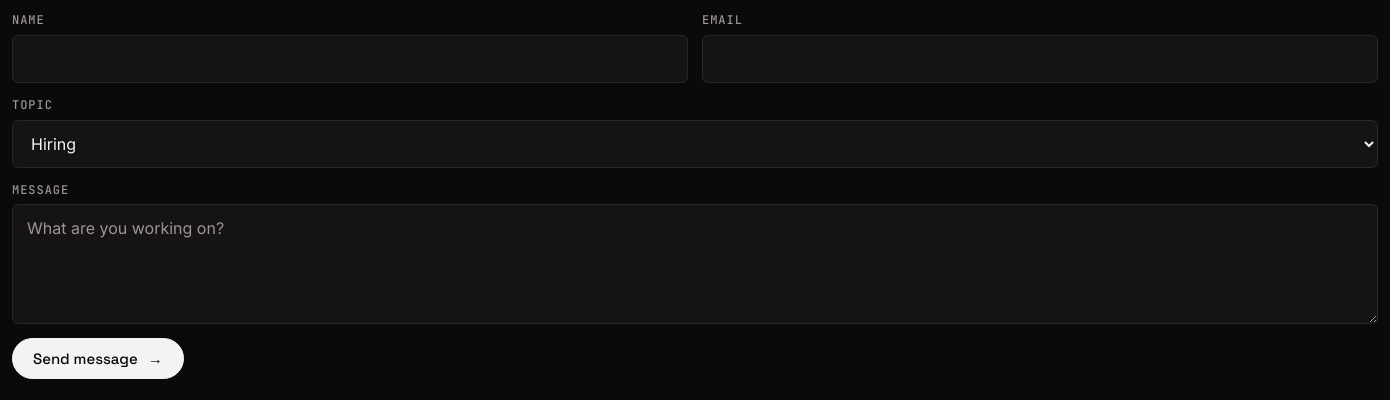
Test: ContactForm › says nothing was sent when the form is valid (the submit is a stub)
Type "Ada" into the field labelled "Name". click: (350,59)
box: [12,35,688,83]
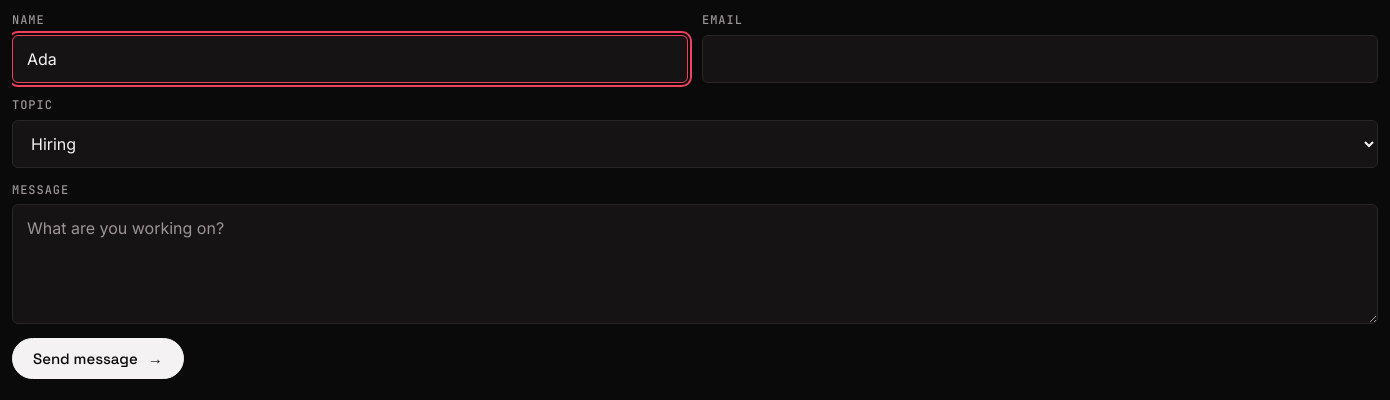
Type "ada@example.com" into the field labelled "Email". click: (1040,59)
box: [702,35,1378,83]
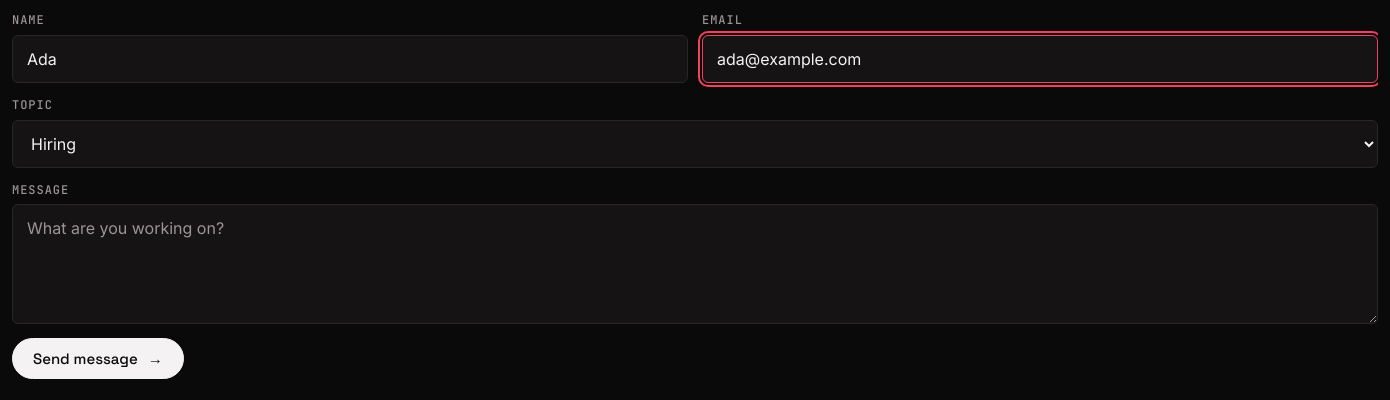
Type "Hello, let us talk." into the text box labelled "Message". click: (695,264)
box: [12,204,1378,324]
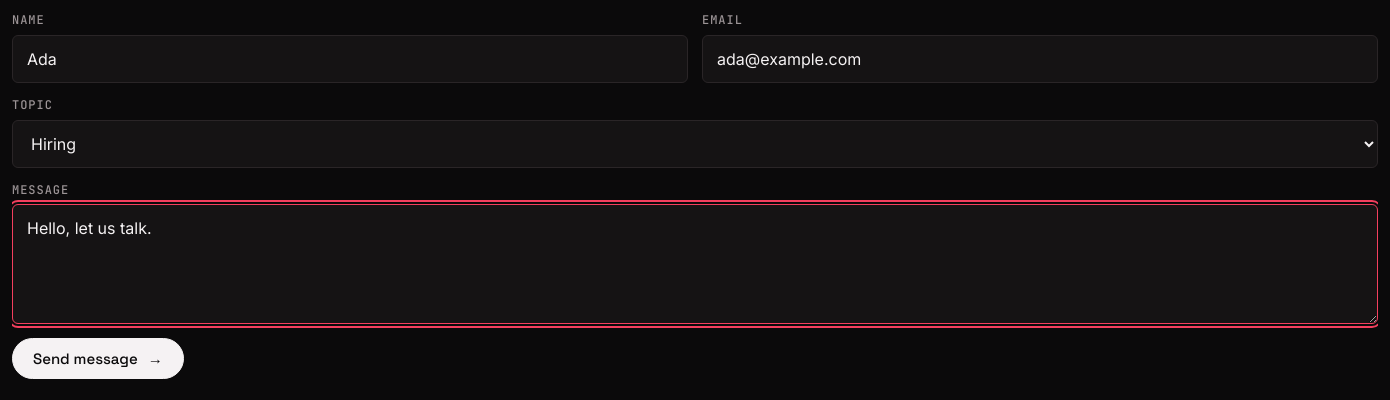
Click the button "Send message →". click: (98,359)
box: [12,338,184,379]
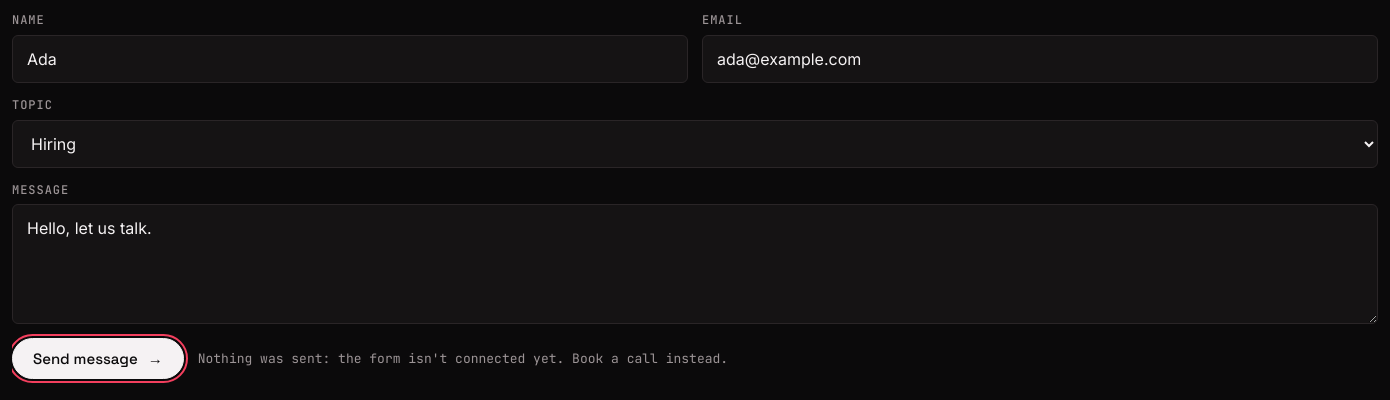
Check: the message shows "Nothing was sent", box [198,350,728,367]
